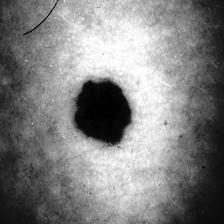Benign Marking or Mole: (74, 78, 132, 146)
